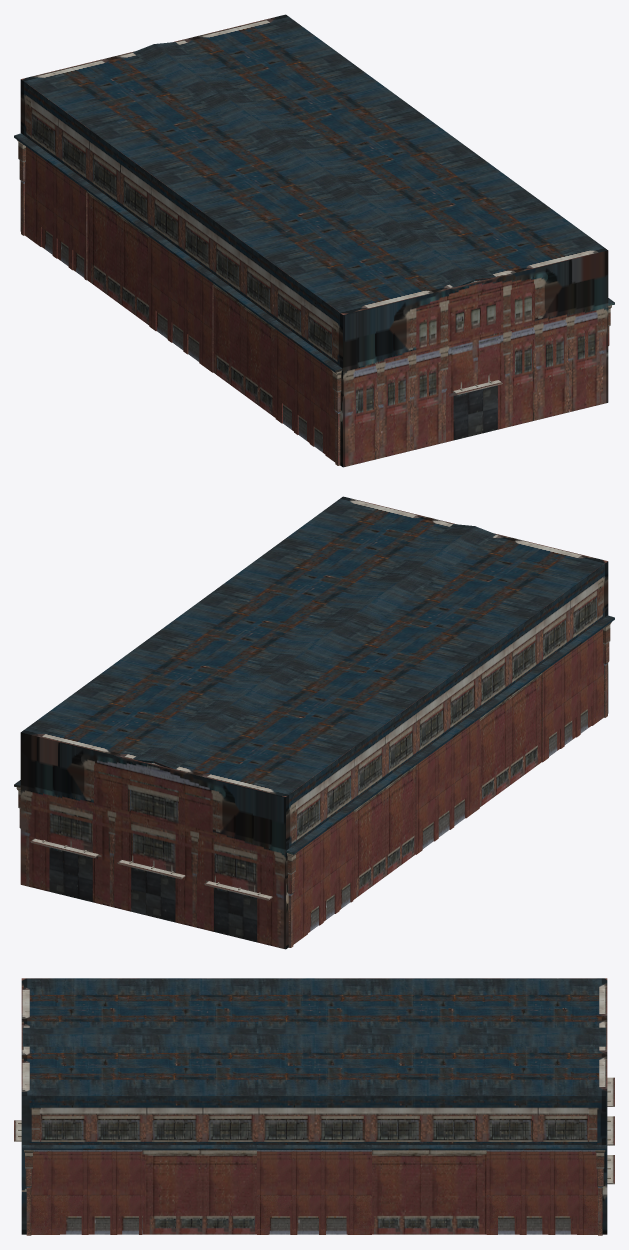
Rendered from dz_industrial_19.fbx.
The picture shows the model from 3 angles, top to bottom: view 1: azimuth 30°, elevation 25°; view 2: azimuth 150°, elevation 25°; view 3: azimuth 270°, elevation 25°; orthographic projection. The views are drawn at different scales.
Visible parts, largest first — view 1: dz_industrial_19_LOD0; view 2: dz_industrial_19_LOD0; view 3: dz_industrial_19_LOD0.
Part boxes in pixels (x1,y1,x2,y2): dz_industrial_19_LOD0: (14,14,614,467); dz_industrial_19_LOD0: (14,496,614,949); dz_industrial_19_LOD0: (14,978,614,1235).
Size of what is drawn, in the model's own units: 46.53 by 24.73 by 95.3.
Materials: 2 (2 with a texture image).
